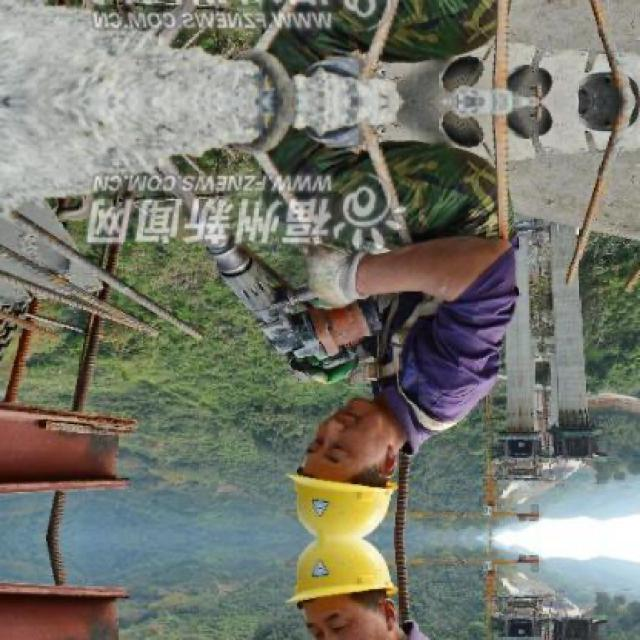con casco: (278, 403, 408, 547)
